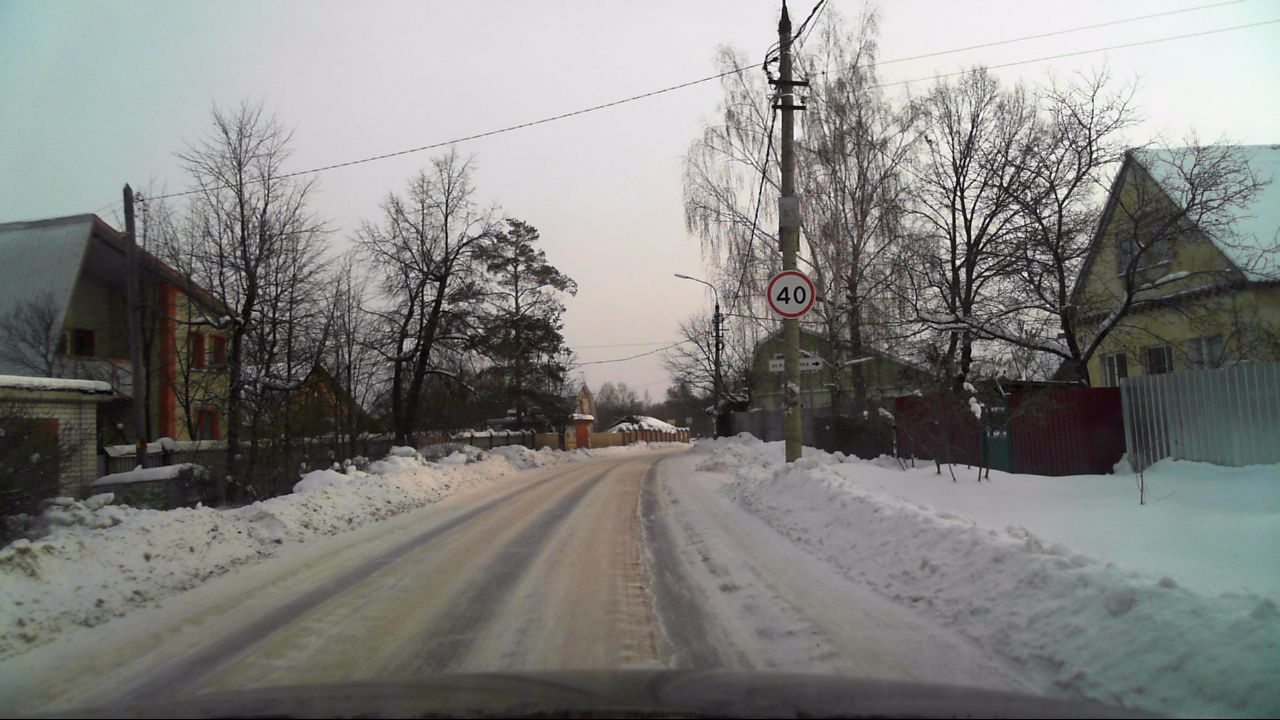speed_warning_40: (767, 269, 815, 318)
